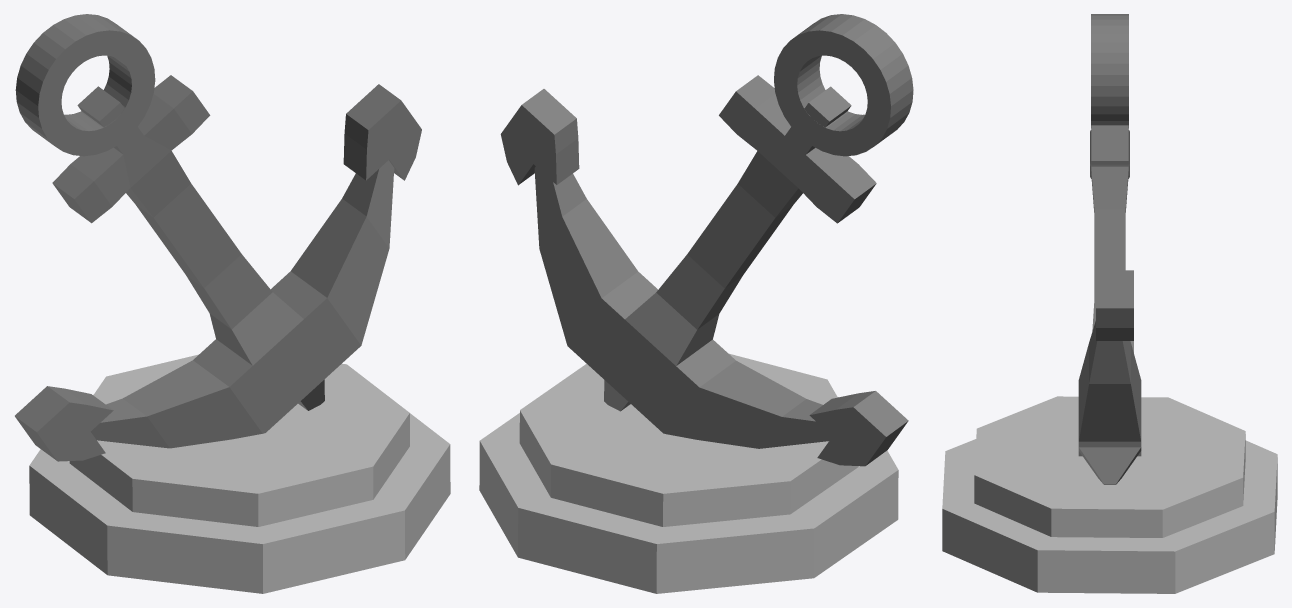
The model's file is anchor_art.fbx.
3 views of the same model, side by side, from view 1: azimuth 30°, elevation 25°; view 2: azimuth 150°, elevation 25°; view 3: azimuth 270°, elevation 25° (orthographic). The views are drawn at different scales.
Parts seen in each view (by area): view 1: anchor_art; view 2: anchor_art; view 3: anchor_art.
Boxes of the visible parts, bbox=[...] form: anchor_art: bbox=[15, 14, 450, 593]; anchor_art: bbox=[479, 14, 913, 593]; anchor_art: bbox=[942, 14, 1277, 593].
Bounding box in the file's own units: 238 × 305 × 210.
1 material, 1 textured.
